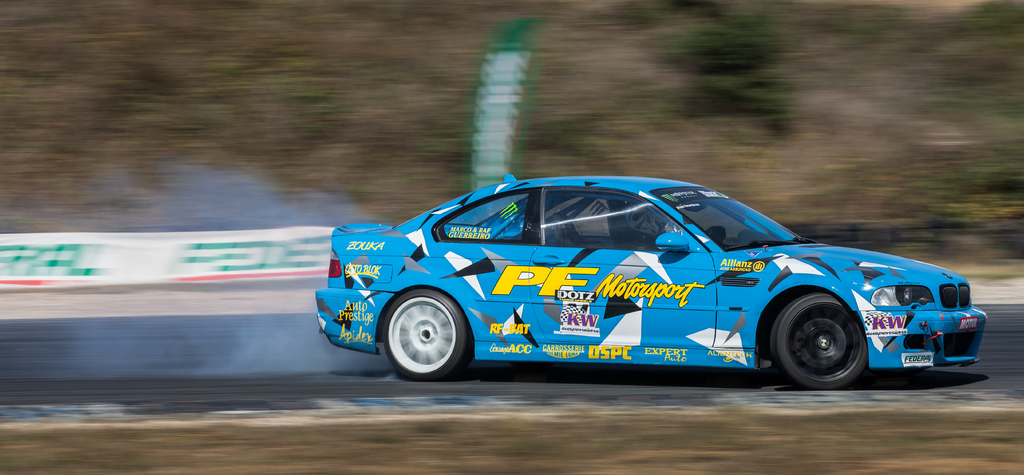Car: (309, 169, 990, 389)
